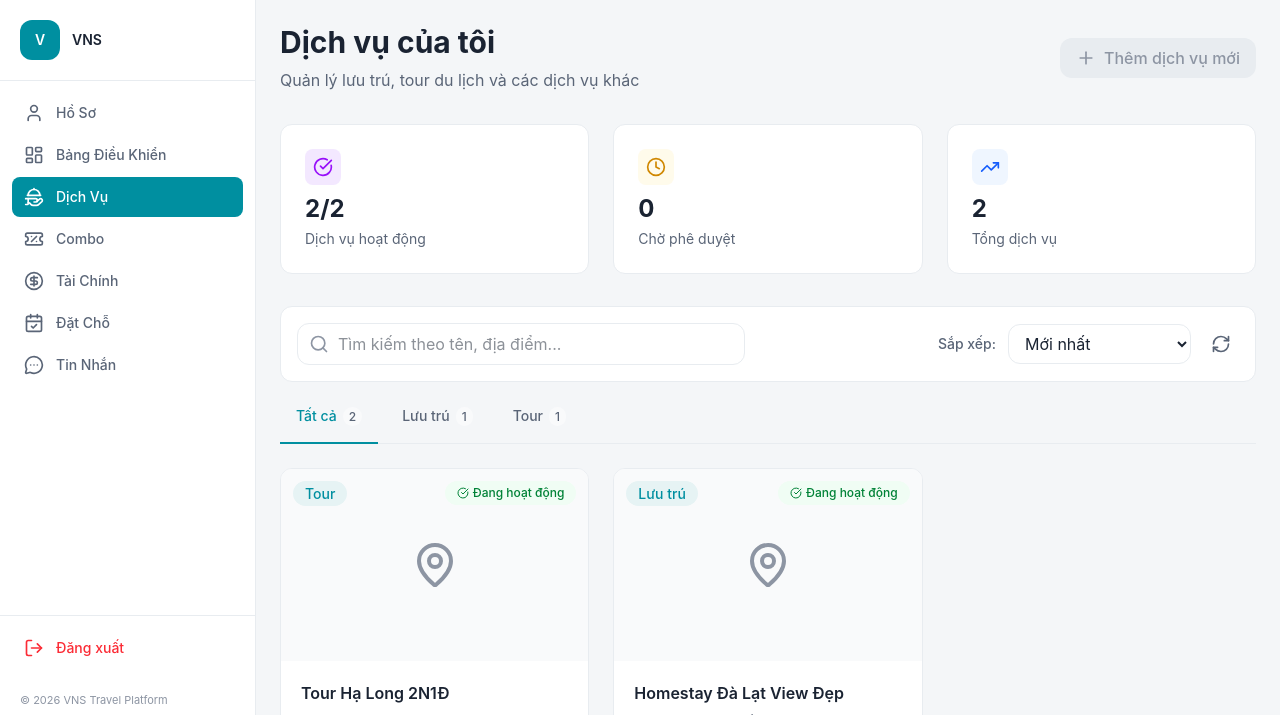
Partner Pages › PartnerService › search filters services
Type "Homestay" into the field with placeholder "Tìm kiếm theo tên, địa điểm..." at point(521, 344), box left=297, top=323, right=745, bottom=365
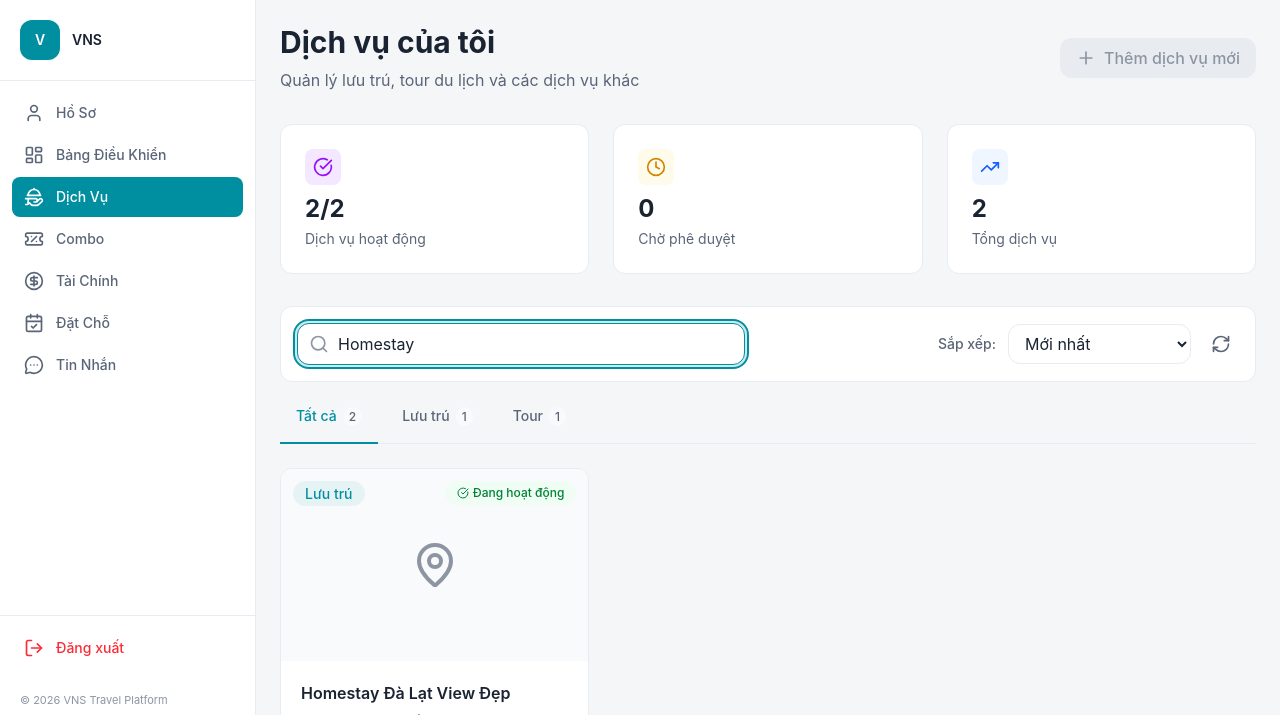
Expected: the heading "Homestay Đà Lạt View Đẹp" is shown, left=301, top=683, right=511, bottom=703
Expected: the heading "Tour Hạ Long 2N1Đ" is gone
